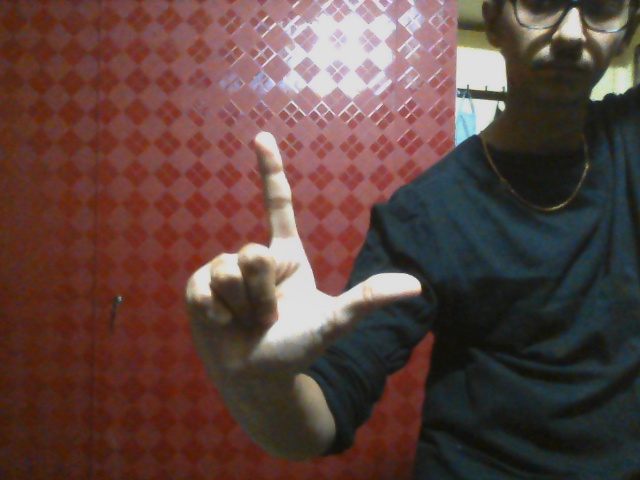L: (182, 131, 419, 374)
